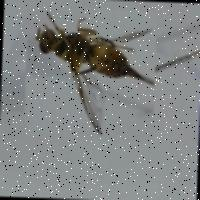Oriental-fruit-fly: (23, 7, 156, 142)
